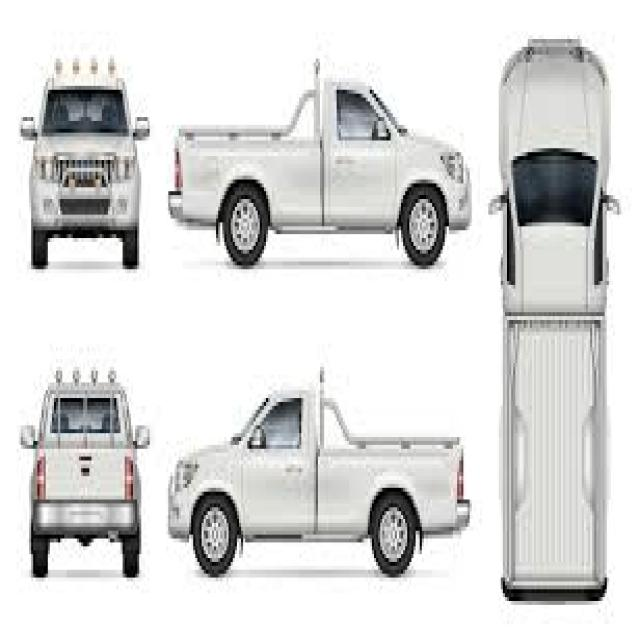truck: (170, 57, 475, 273), (501, 37, 611, 601), (168, 391, 470, 580), (27, 64, 143, 278), (22, 375, 140, 584)
